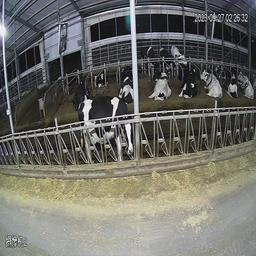cow: (77, 96, 141, 189), (176, 59, 201, 107), (148, 65, 174, 107), (201, 62, 225, 105), (69, 72, 93, 112), (116, 65, 134, 105), (223, 70, 241, 104), (237, 66, 254, 102), (92, 58, 109, 90), (158, 41, 176, 71), (140, 41, 157, 72)
